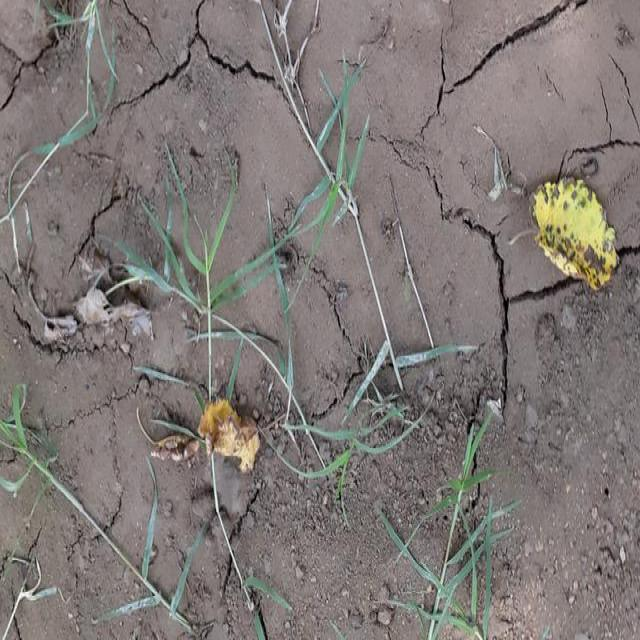weed: (125, 138, 369, 328)
